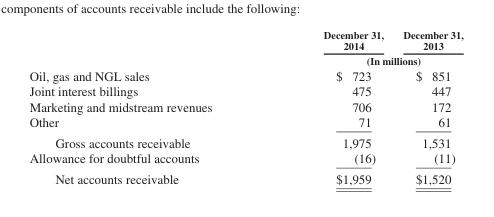table: (28, 28, 462, 185)
table column: (28, 28, 267, 185), (267, 28, 392, 185), (392, 28, 462, 185)
table column header: (28, 28, 462, 67)
table row: (28, 28, 462, 52), (28, 113, 462, 132), (28, 132, 462, 150), (28, 150, 462, 168), (28, 168, 462, 185), (28, 82, 462, 98), (28, 52, 462, 67), (28, 67, 462, 82), (28, 98, 462, 113)
table spanning cell: (267, 52, 462, 67)
